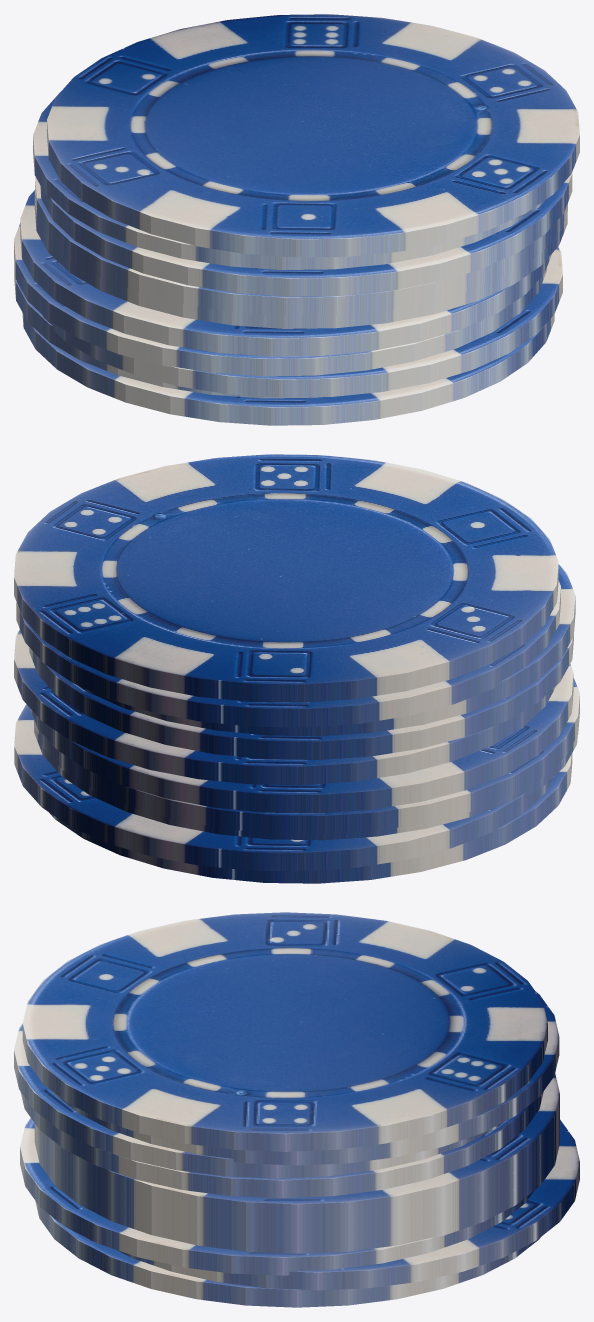
Rendered from CHIPS_blued.fbx.
3 renders of one model, top to bottom at view 1: azimuth 30°, elevation 25°; view 2: azimuth 150°, elevation 25°; view 3: azimuth 270°, elevation 25°, orthographic. The views are drawn at different scales.
Parts seen in each view (by area): view 1: Cylinder.010, Cylinder.004, Cylinder.006, Cylinder.007, Cylinder.002, Cylinder.003, Cylinder.008, Cylinder.009, Cylinder.005, Cylinder.001; view 2: Cylinder.010, Cylinder.001, Cylinder.004, Cylinder.005, Cylinder.009, Cylinder.008, Cylinder.003, Cylinder.007, Cylinder.006, Cylinder.002; view 3: Cylinder.010, Cylinder.005, Cylinder.002, Cylinder.001, Cylinder.008, Cylinder.004, Cylinder.007, Cylinder.006, Cylinder.003, Cylinder.009.
Part boxes in pixels (box(x1,y1,x2,y2)): Cylinder.010: box(47, 14, 579, 257); Cylinder.004: box(20, 190, 552, 356); Cylinder.006: box(40, 172, 572, 296); Cylinder.007: box(22, 312, 554, 425); Cylinder.002: box(42, 247, 562, 397); Cylinder.003: box(14, 223, 546, 376); Cylinder.008: box(35, 177, 567, 315); Cylinder.009: box(33, 92, 544, 269); Cylinder.005: box(34, 190, 567, 328); Cylinder.001: box(14, 264, 317, 398); Cylinder.010: box(14, 454, 558, 702); Cylinder.001: box(14, 704, 554, 871); Cylinder.004: box(30, 664, 573, 813); Cylinder.005: box(14, 629, 556, 784); Cylinder.009: box(16, 581, 560, 727); Cylinder.008: box(29, 636, 573, 759); Cylinder.003: box(35, 678, 579, 834); Cylinder.007: box(49, 753, 572, 883); Cylinder.006: box(78, 564, 575, 736); Cylinder.002: box(34, 719, 577, 840); Cylinder.010: box(22, 912, 547, 1151); Cylinder.005: box(39, 1073, 559, 1221); Cylinder.002: box(20, 1118, 533, 1275); Cylinder.001: box(117, 1119, 579, 1290); Cylinder.008: box(20, 1091, 543, 1198); Cylinder.004: box(34, 1112, 559, 1238); Cylinder.007: box(35, 1201, 540, 1307); Cylinder.006: box(14, 1023, 503, 1178); Cylinder.003: box(34, 1128, 559, 1253); Cylinder.009: box(52, 991, 559, 1165).
Bounding box in the file's own units: 204 × 74.14 × 208.
10 materials, 10 textured.
